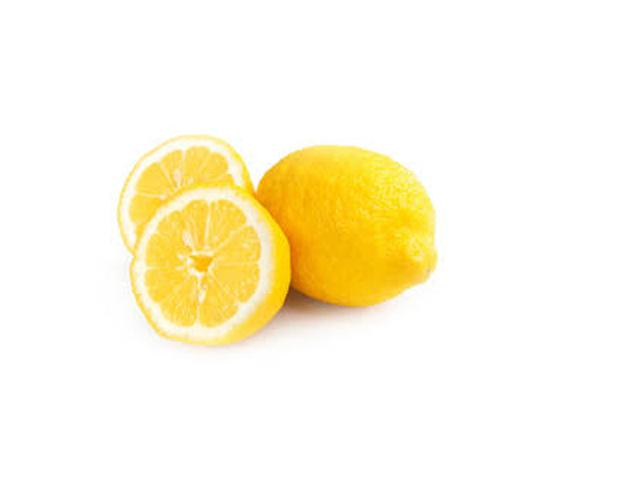lemon: (251, 136, 449, 309)
